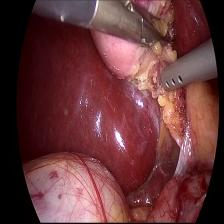Grasper: (138, 17, 177, 53)
Irrigator: (159, 54, 198, 96)
